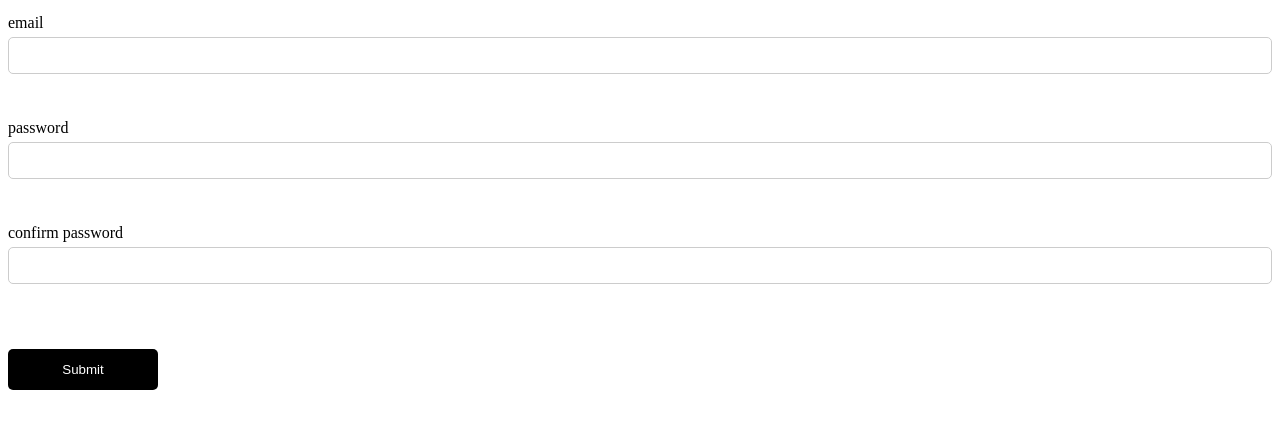
Scenario: Form Tests › Success › success login with post api
The image size is (1280, 425).
Type "esrafil.elahi@gmail.com" into the field labelled "email" at (640, 56), box [8, 37, 1272, 74]
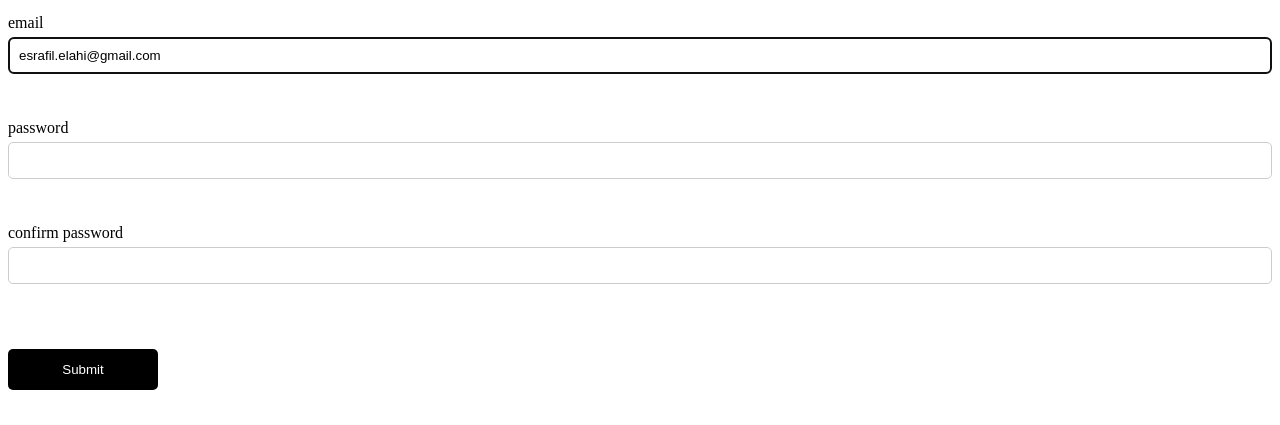
Type "123456" into the password field labelled "password" at (640, 160), box [8, 142, 1272, 179]
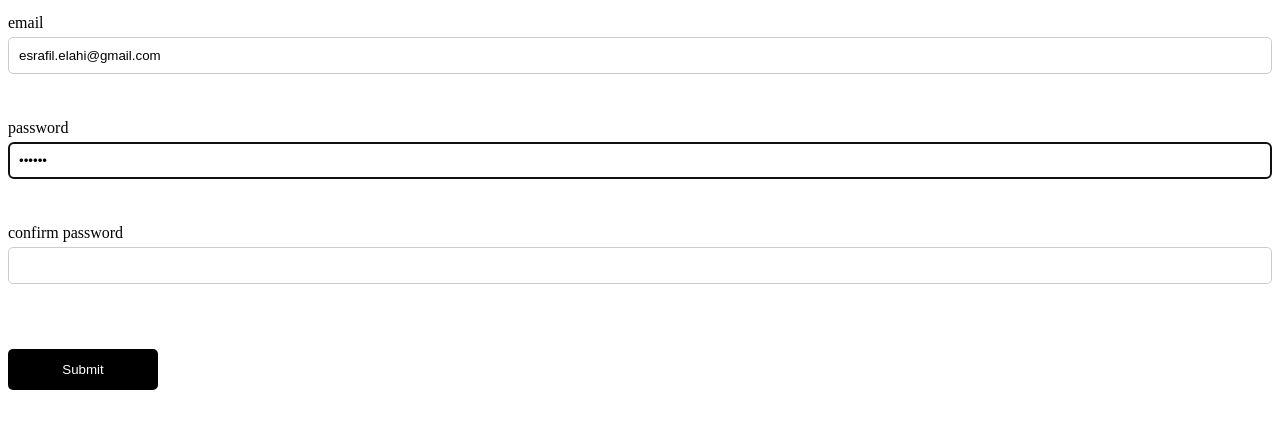
Type "123456" into the password field labelled "confirm password" at (640, 266), box [8, 247, 1272, 284]
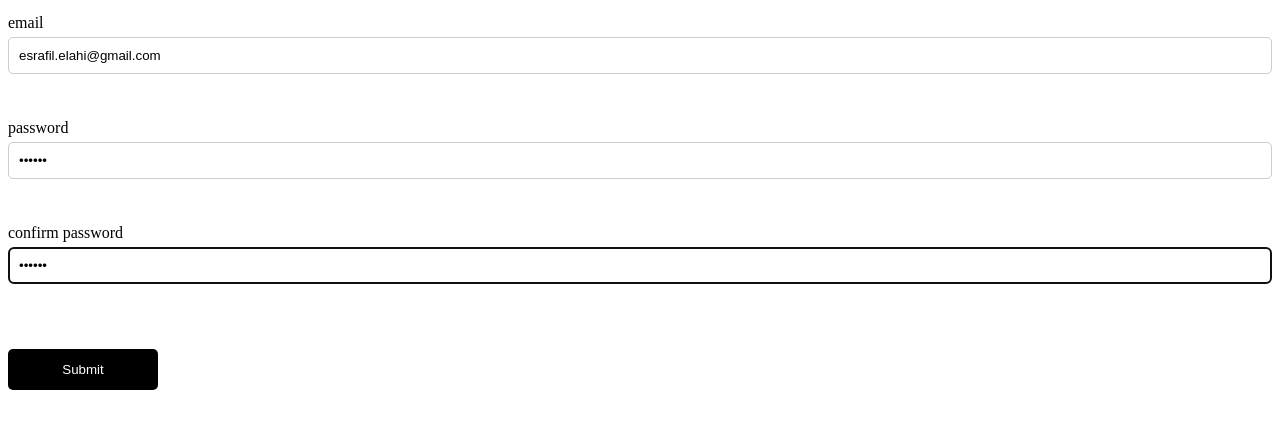
Click the button "Submit" at (83, 370), box [8, 349, 158, 390]
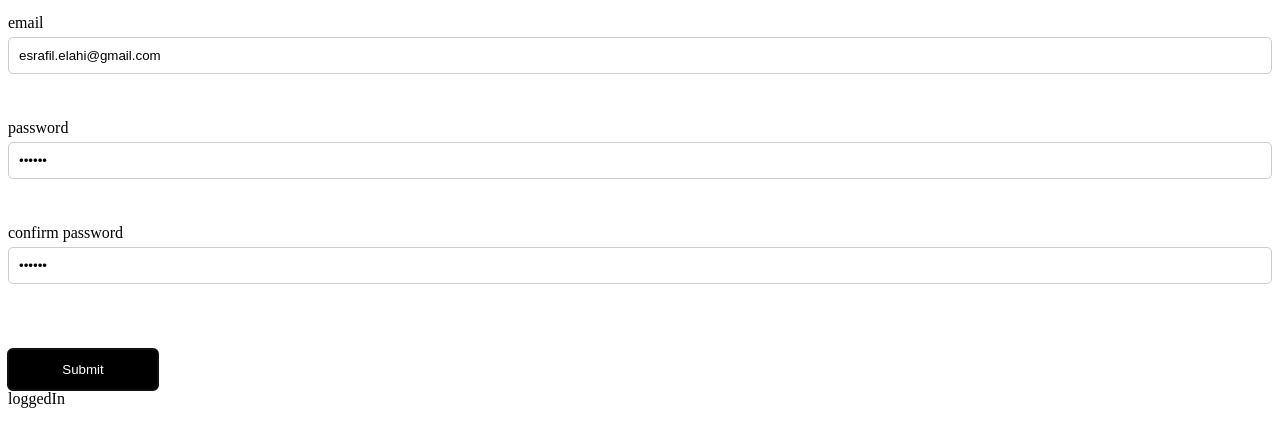
Now the text "loggedIn" is shown, box [8, 390, 65, 407]
